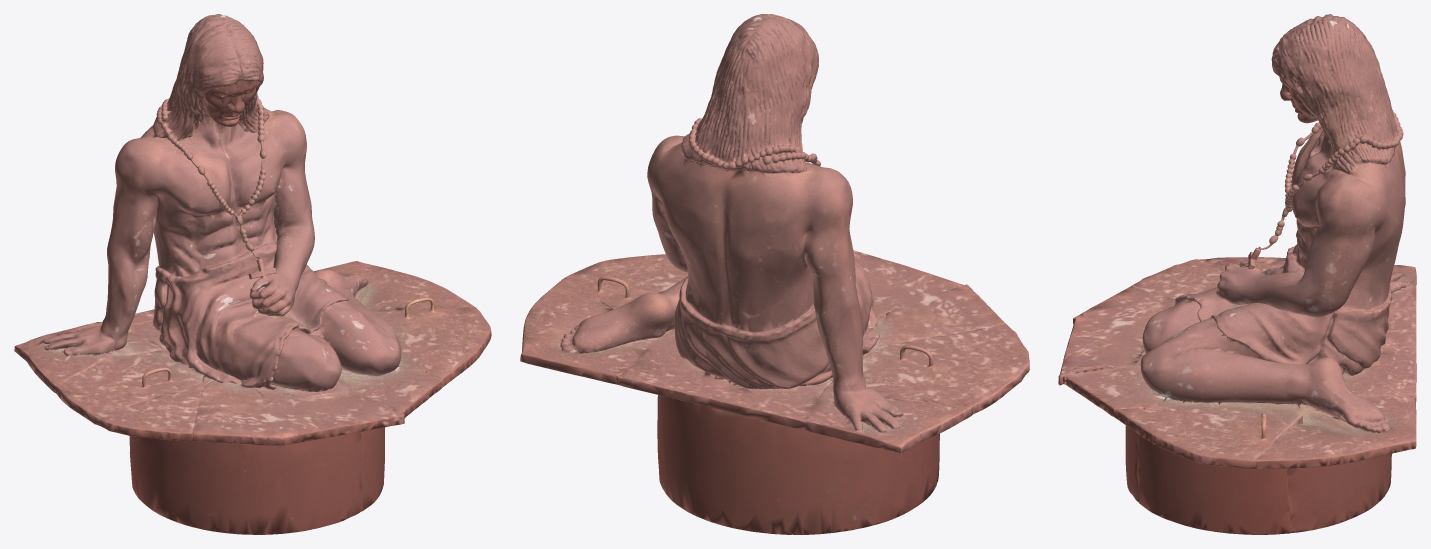
File: los_orantes1.glb
3 views of the same model, side by side, from view 1: azimuth 30°, elevation 25°; view 2: azimuth 150°, elevation 25°; view 3: azimuth 270°, elevation 25° (orthographic). The views are drawn at different scales.
Bounding box in the file's own units: 1.81 × 1.9 × 1.35.
Materials: 1 (1 with a texture image).
